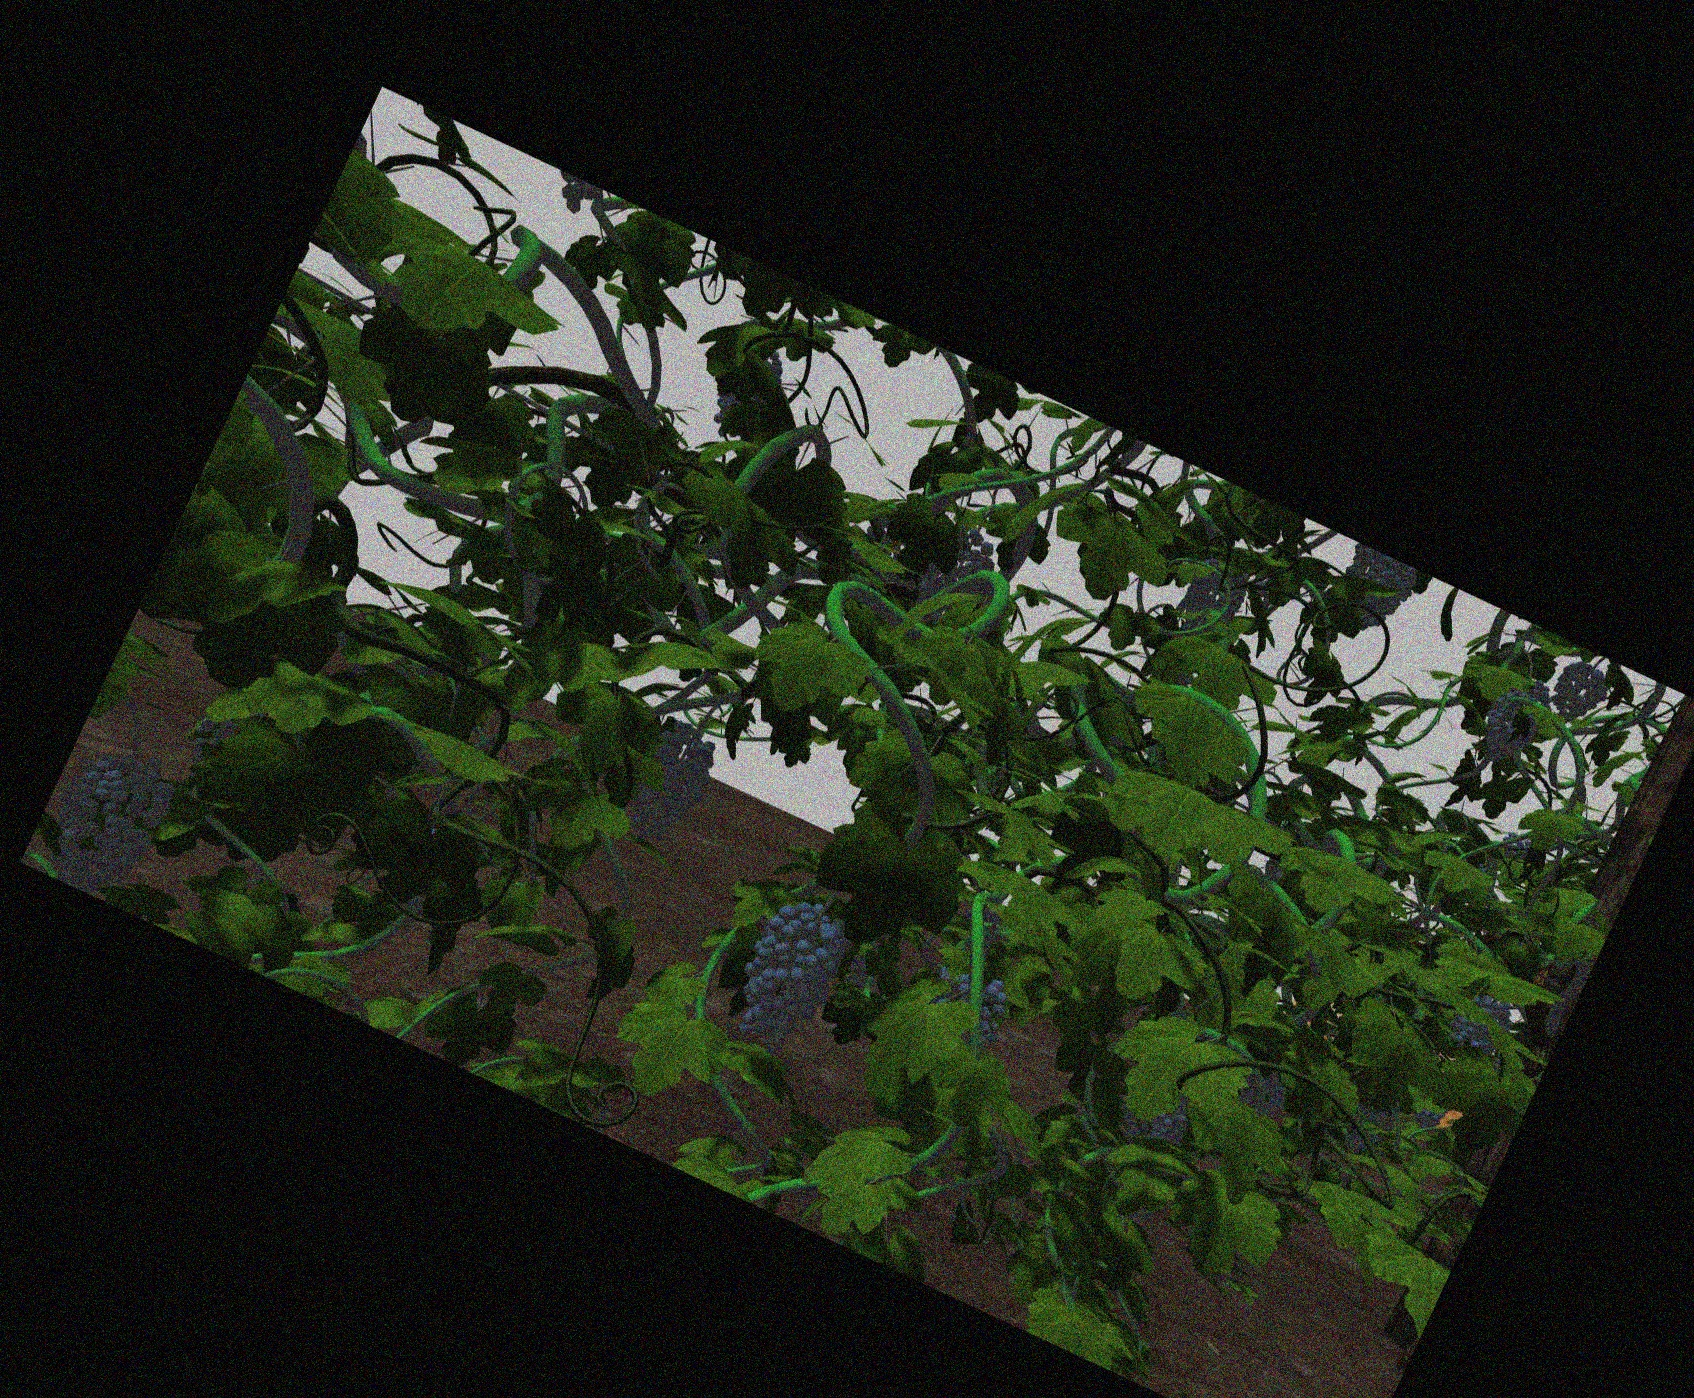grape: (62, 747, 156, 885), (746, 907, 827, 1046), (632, 731, 702, 841), (1339, 558, 1407, 627), (1486, 684, 1539, 761), (1187, 565, 1238, 631), (1456, 996, 1505, 1051), (1553, 667, 1604, 717)
